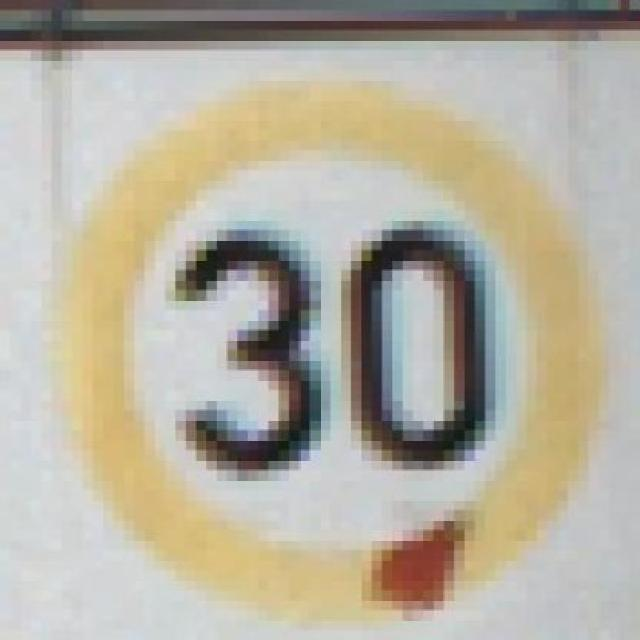Speed Limit 30 KMPh: (51, 90, 609, 621)
